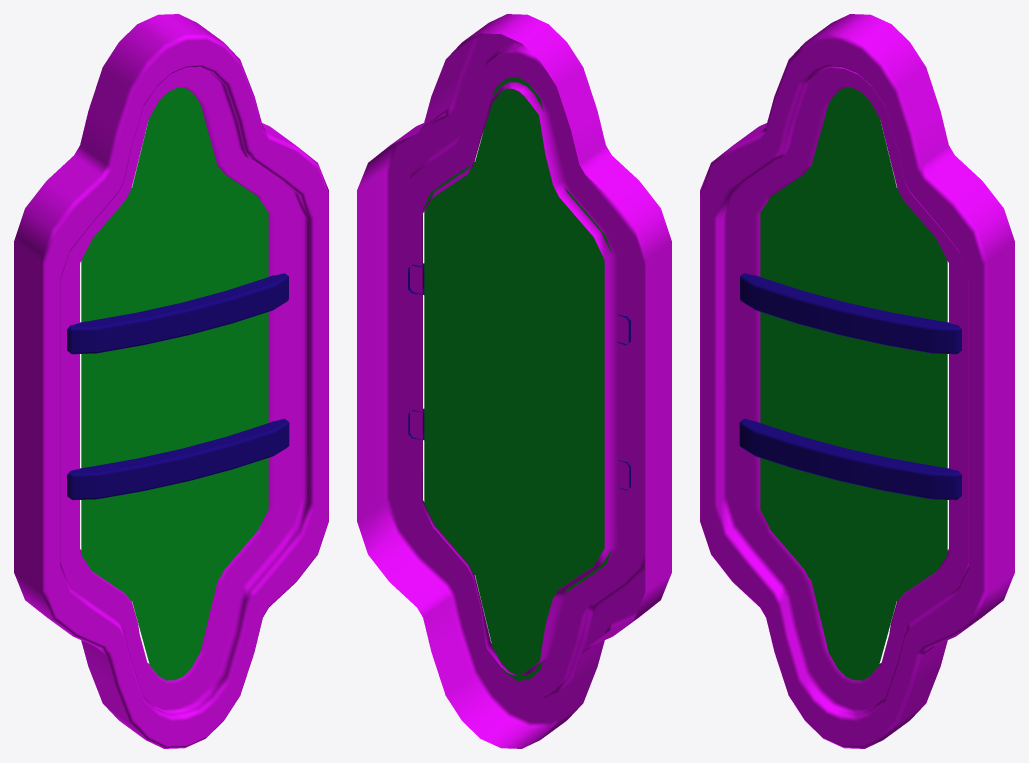
Rendered from Fenetre_Simple_02_4x4x0.fbx.
3 views of the same model, side by side, from view 1: azimuth 30°, elevation 25°; view 2: azimuth 150°, elevation 25°; view 3: azimuth 330°, elevation 25° (orthographic).
Parts seen in each view (by area): view 1: Fenetre_Simple_02_4x4x0_LOD0; view 2: Fenetre_Simple_02_4x4x0_LOD0; view 3: Fenetre_Simple_02_4x4x0_LOD0.
Boxes of the visible parts, x1,y1,x2,y2 form: Fenetre_Simple_02_4x4x0_LOD0: (14,14,328,748); Fenetre_Simple_02_4x4x0_LOD0: (357,14,671,748); Fenetre_Simple_02_4x4x0_LOD0: (700,14,1014,748).
Size of the model in its own units: 91.33 by 216 by 18.11.
